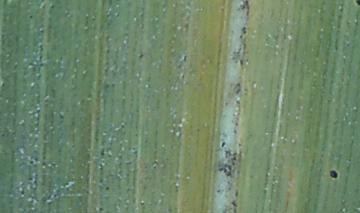tarspot: (216, 163, 233, 177), (240, 1, 252, 16), (328, 169, 340, 179), (182, 53, 189, 63), (238, 58, 245, 67), (241, 25, 247, 35), (220, 140, 226, 148), (104, 185, 111, 191), (1, 81, 7, 88), (28, 160, 36, 165), (136, 53, 144, 58), (354, 1, 360, 7), (27, 14, 34, 19), (97, 206, 104, 211)
